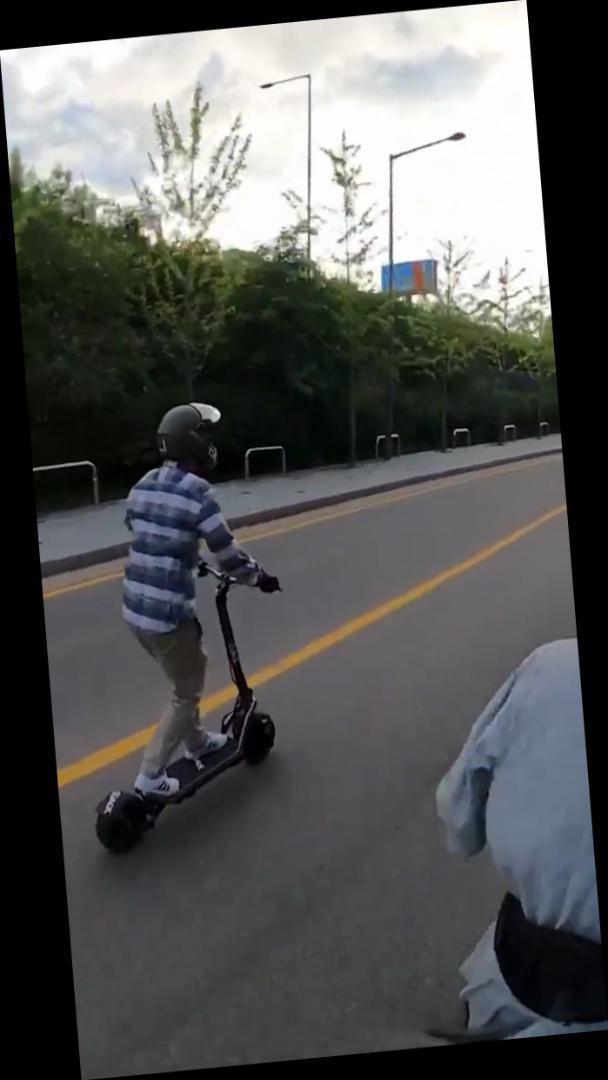helmet: (60, 392, 307, 859)
